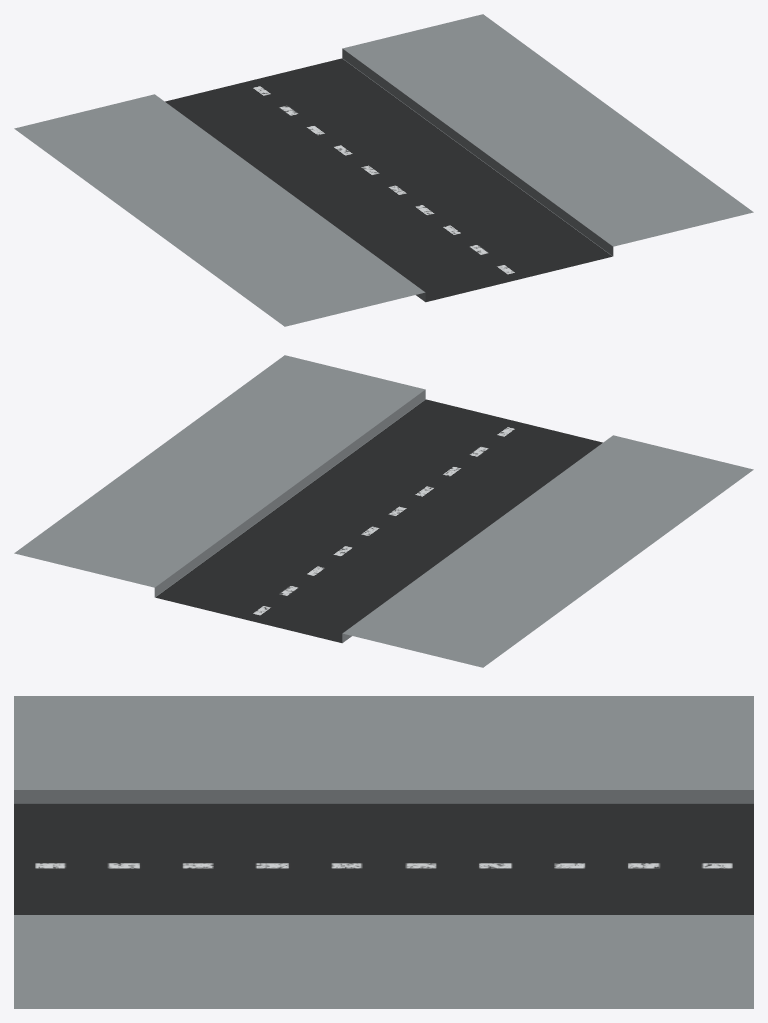
Rendered from Road_Straight.fbx.
The picture shows the model from 3 angles, top to bottom: view 1: azimuth 30°, elevation 25°; view 2: azimuth 150°, elevation 25°; view 3: azimuth 270°, elevation 25°; orthographic projection. The views are drawn at different scales.
Parts seen in each view (by area): view 1: Road_Straight; view 2: Road_Straight; view 3: Road_Straight.
Part boxes in pixels (x1=…): Road_Straight: x1=14, y1=14, x2=753, y2=326; Road_Straight: x1=14, y1=355, x2=753, y2=667; Road_Straight: x1=14, y1=696, x2=753, y2=1008.
Bounding box in the file's own units: 10 × 0.2 × 10.
